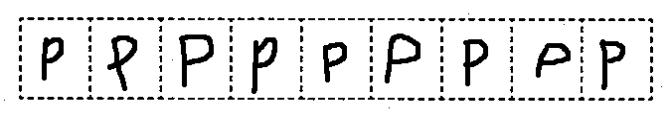P: (102, 29, 142, 94), (380, 30, 426, 86), (176, 31, 218, 91), (247, 30, 280, 96), (593, 35, 630, 92), (458, 35, 494, 90), (530, 36, 574, 81), (37, 34, 69, 82), (318, 38, 351, 84)
